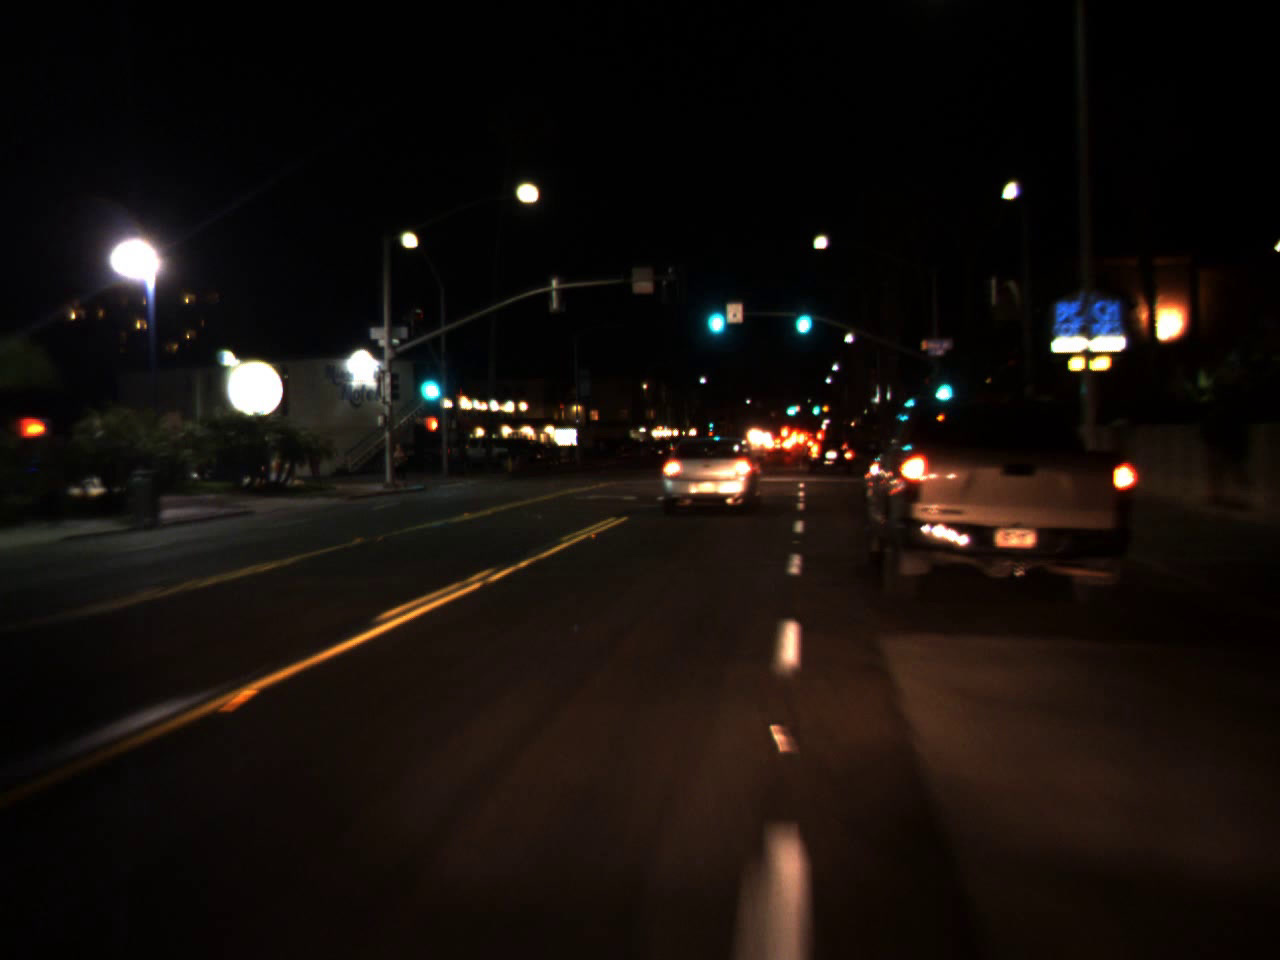go: (413, 355, 445, 409), (700, 287, 728, 341), (788, 290, 815, 341), (928, 362, 956, 407), (784, 396, 798, 417), (810, 398, 819, 416), (707, 417, 714, 429)
